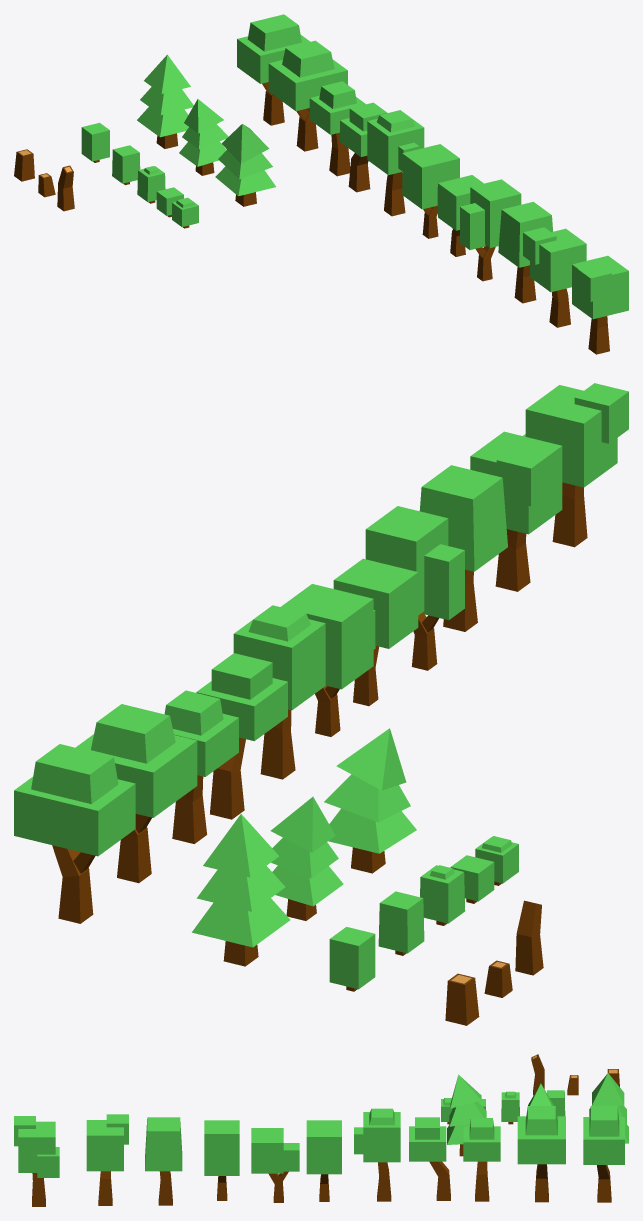
File: tree.fbx
3 renders of one model, top to bottom at view 1: azimuth 30°, elevation 25°; view 2: azimuth 150°, elevation 25°; view 3: azimuth 270°, elevation 25°, orthographic. The views are drawn at different scales.
Parts seen in each view (by area): view 1: Tree_02.002, Tree_11.001, Tree_10.001, Tree_01.002, Tree_05.002, Tree_08.001, FirTree_01.003, Tree_06.001, FirTree_03.003, Tree_09.001, Tree_04.002, FirTree_02.003 (+9 smaller); view 2: Tree_01.002, Tree_02.002, Tree_11.001, FirTree_01.003, Tree_08.001, Tree_10.001, FirTree_03.003, Tree_05.002, Tree_09.001, Tree_03.002, Tree_06.001, FirTree_02.003 (+9 smaller); view 3: Tree_02.002, Tree_01.002, Tree_11.001, Tree_05.002, Tree_10.001, Tree_09.001, Tree_07.004, Tree_08.001, Tree_06.001, Tree_03.002, Tree_04.002, FirTree_03.003 (+6 smaller).
Boxes of the visible parts, bbox=[...] form: Tree_02.002: bbox=[268, 40, 347, 151]; Tree_11.001: bbox=[572, 255, 628, 354]; Tree_10.001: bbox=[523, 227, 586, 327]; Tree_01.002: bbox=[237, 14, 310, 125]; Tree_05.002: bbox=[367, 110, 424, 216]; Tree_08.001: bbox=[460, 179, 521, 281]; FirTree_01.003: bbox=[137, 54, 193, 148]; Tree_06.001: bbox=[402, 144, 459, 238]; FirTree_03.003: bbox=[215, 124, 275, 206]; Tree_09.001: bbox=[498, 201, 552, 303]; Tree_04.002: bbox=[309, 81, 365, 176]; FirTree_02.003: bbox=[179, 99, 228, 175]; Tree_01.002: bbox=[14, 744, 135, 923]; Tree_02.002: bbox=[76, 704, 197, 883]; Tree_11.001: bbox=[523, 383, 628, 547]; FirTree_01.003: bbox=[192, 814, 290, 966]; Tree_08.001: bbox=[365, 506, 464, 670]; Tree_10.001: bbox=[470, 431, 562, 591]; FirTree_03.003: bbox=[324, 728, 416, 873]; Tree_05.002: bbox=[233, 605, 325, 779]; Tree_09.001: bbox=[419, 465, 507, 631]; Tree_03.002: bbox=[196, 653, 287, 819]; Tree_06.001: bbox=[281, 584, 373, 736]; FirTree_02.003: bbox=[270, 796, 343, 920]; Tree_02.002: bbox=[517, 1106, 565, 1202]; Tree_01.002: bbox=[583, 1105, 624, 1202]; Tree_11.001: bbox=[14, 1116, 59, 1206]; Tree_05.002: bbox=[354, 1108, 400, 1201]; Tree_10.001: bbox=[86, 1114, 128, 1205]; Tree_09.001: bbox=[145, 1117, 182, 1205]; Tree_07.004: bbox=[251, 1128, 299, 1202]; Tree_08.001: bbox=[204, 1120, 239, 1200]; Tree_06.001: bbox=[306, 1120, 341, 1201]; Tree_03.002: bbox=[409, 1117, 450, 1200]; Tree_04.002: bbox=[463, 1118, 500, 1201]; FirTree_03.003: bbox=[447, 1074, 486, 1156].
Bounding box in the file's own units: 1232 × 405 × 2589.
